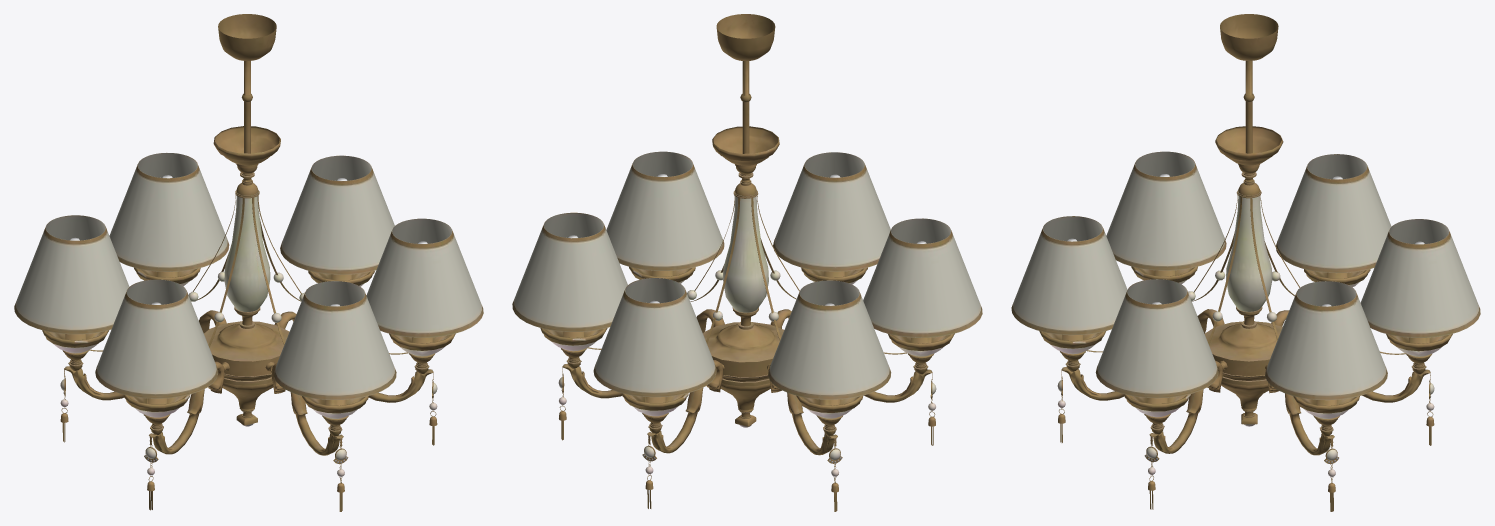
File: Chandelier_01.glb
3 renders of one model, left to right at view 1: azimuth 30°, elevation 25°; view 2: azimuth 150°, elevation 25°; view 3: azimuth 270°, elevation 25°, orthographic.
Visible parts, largest first — view 1: Chandelier_01; view 2: Chandelier_01; view 3: Chandelier_01.
Boxes of the visible parts, left/top/right/bottom form: Chandelier_01: left=14, top=14, right=483, bottom=511; Chandelier_01: left=512, top=14, right=982, bottom=511; Chandelier_01: left=1011, top=14, right=1480, bottom=511.
Size of the model in its own units: 0.7465 by 0.7983 by 0.8155.
2 materials, 1 textured.
